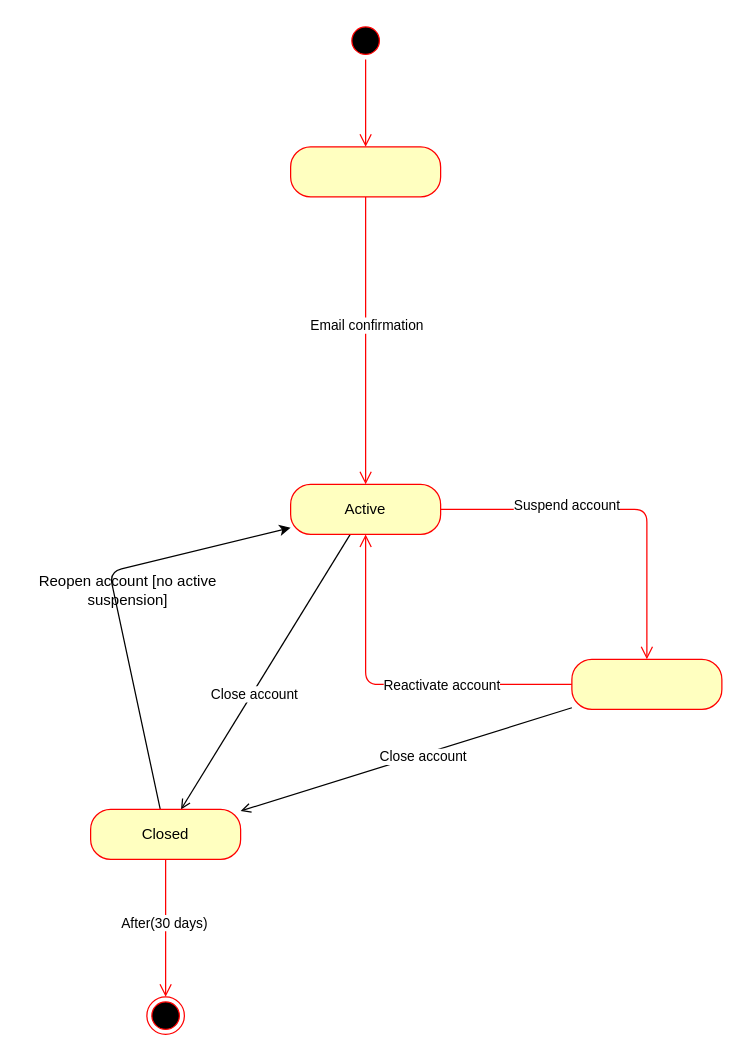
Some shapes in this 744 by 1056 pixel diagram are drawn without their labels. Here are the shapes that lost their labels. From the top down, the box of each, then its label:
(289, 146, 441, 197): Awaiting email verification
(571, 658, 722, 709): Suspended
